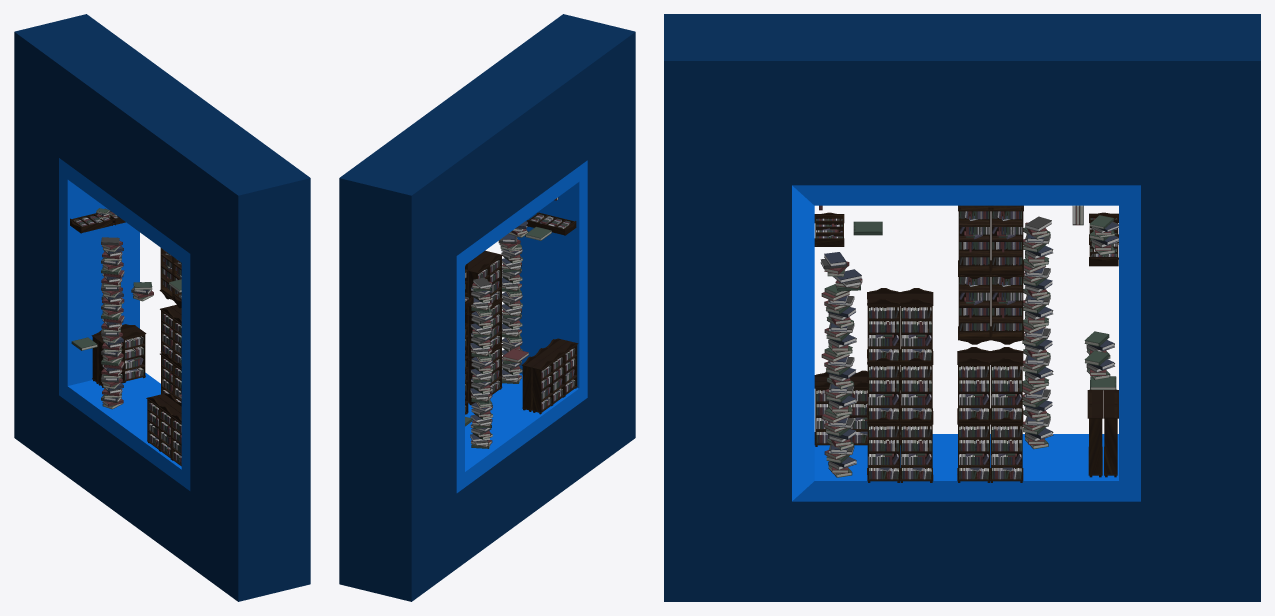
Rendered from FaceB2.glb.
The picture shows the model from 3 angles, left to right: view 1: azimuth 30°, elevation 25°; view 2: azimuth 150°, elevation 25°; view 3: azimuth 270°, elevation 25°; orthographic projection. The views are drawn at different scales.
Parts seen in each view (by area): view 1: paredeTRUETRUE-col.002, planoTrue-col, estante-col.003, PilhaDeLivros-col.006, estante-col.002, estante-col.001, PilhaDeLivros-col.008, estante-col.005, livros.002-col; view 2: paredeTRUETRUE-col.002, planoTrue-col, estante-col.003, estante-col.004, PilhaDeLivros-col.006, PilhaDeLivros-col.008, PilhaDeLivros-col.004, PilhaDeLivros-col.005, PilhaDeLivros-col.002, livros.001-col; view 3: paredeTRUETRUE-col.002, planoTrue-col, estante-col.004, estante-col.005, estante-col.002, PilhaDeLivros-col.006, PilhaDeLivros-col.008, estante-col.001, estante-col.003, PilhaDeLivros-col.005, PilhaDeLivros-col.004, PilhaDeLivros-col.002 (+1 smaller).
Boxes of the visible parts, left/top/right/bottom form: paredeTRUETRUE-col.002: left=14, top=14, right=310, bottom=601; planoTrue-col: left=59, top=158, right=190, bottom=490; estante-col.003: left=146, top=393, right=181, bottom=466; PilhaDeLivros-col.006: left=101, top=313, right=124, bottom=409; estante-col.002: left=160, top=304, right=181, bottom=402; estante-col.001: left=91, top=324, right=146, bottom=387; PilhaDeLivros-col.008: left=101, top=237, right=124, bottom=318; estante-col.005: left=159, top=248, right=181, bottom=308; livros.002-col: left=70, top=213, right=113, bottom=233; paredeTRUETRUE-col.002: left=339, top=14, right=635, bottom=601; planoTrue-col: left=456, top=160, right=587, bottom=492; estante-col.003: left=521, top=338, right=578, bottom=414; estante-col.004: left=465, top=250, right=503, bottom=405; PilhaDeLivros-col.006: left=470, top=354, right=492, bottom=448; PilhaDeLivros-col.008: left=470, top=277, right=492, bottom=357; PilhaDeLivros-col.004: left=502, top=290, right=522, bottom=338; PilhaDeLivros-col.005: left=501, top=243, right=522, bottom=292; PilhaDeLivros-col.002: left=502, top=335, right=522, bottom=383; livros.001-col: left=526, top=212, right=576, bottom=235; paredeTRUETRUE-col.002: left=664, top=14, right=1260, bottom=601; planoTrue-col: left=792, top=185, right=1140, bottom=501; estante-col.004: left=867, top=288, right=933, bottom=482; estante-col.005: left=958, top=205, right=1023, bottom=344; estante-col.002: left=957, top=347, right=1023, bottom=482; PilhaDeLivros-col.006: left=1022, top=317, right=1053, bottom=449; PilhaDeLivros-col.008: left=1023, top=216, right=1053, bottom=327; estante-col.001: left=1087, top=389, right=1118, bottom=477; estante-col.003: left=814, top=370, right=900, bottom=446; PilhaDeLivros-col.005: left=821, top=284, right=856, bottom=355; PilhaDeLivros-col.004: left=821, top=345, right=856, bottom=416; PilhaDeLivros-col.002: left=821, top=406, right=856, bottom=477.
Size of the model in its own units: 102 by 509 by 509.
501 materials, 498 textured.
